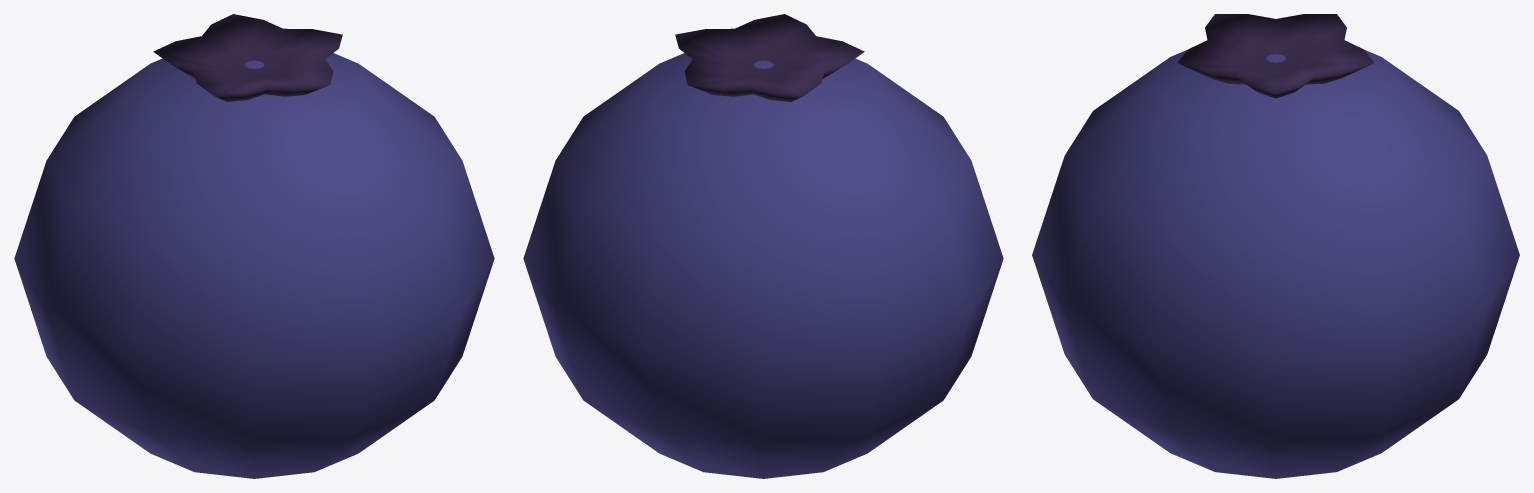
The model's file is blueberry.glb.
The picture shows the model from 3 angles, left to right: view 1: azimuth 30°, elevation 25°; view 2: azimuth 150°, elevation 25°; view 3: azimuth 270°, elevation 25°; orthographic projection.
Visible parts, largest first — view 1: blueberry; view 2: blueberry; view 3: blueberry.
Boxes of the visible parts, x1=… form: blueberry: x1=14, y1=14, x2=494, y2=478; blueberry: x1=523, y1=14, x2=1003, y2=478; blueberry: x1=1032, y1=14, x2=1519, y2=478.
Bounding box in the file's own units: 2 × 1.83 × 2.
